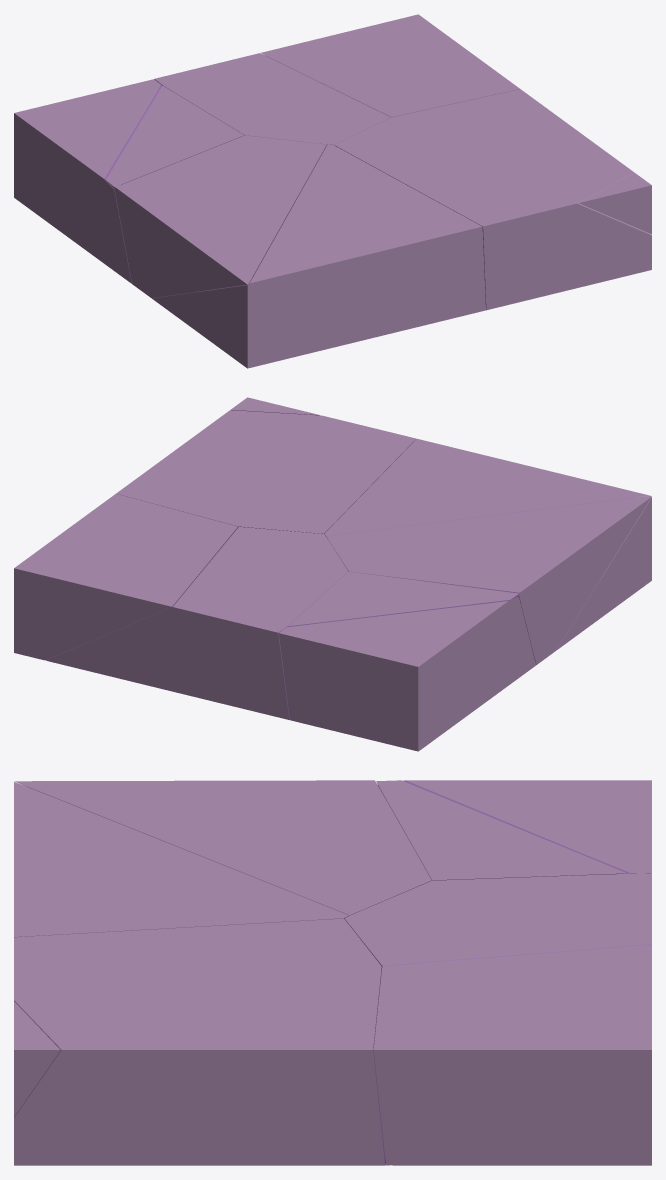
The model's file is BreakBlock_01_crack1.fbx.
3 renders of one model, top to bottom at view 1: azimuth 30°, elevation 25°; view 2: azimuth 150°, elevation 25°; view 3: azimuth 270°, elevation 25°, orthographic. The views are drawn at different scales.
Visible parts, largest first — view 1: Cube_cell.006, Cube_cell.003, Cube_cell.007, Cube_cell.005, Cube_cell, Cube_cell.001, Cube_cell.004, Cube_cell.002; view 2: Cube_cell.005, Cube_cell.001, Cube_cell.003, Cube_cell.007, Cube_cell, Cube_cell.006, Cube_cell.004, Cube_cell.002; view 3: Cube_cell.003, Cube_cell, Cube_cell.007, Cube_cell.006, Cube_cell.001, Cube_cell.005, Cube_cell.004, Cube_cell.002.
Part boxes in pixels (<box>): Cube_cell.006: <box>152,144,485,368</box>; Cube_cell.003: <box>334,89,651,310</box>; Cube_cell.007: <box>114,135,326,298</box>; Cube_cell.005: <box>14,79,161,283</box>; Cube_cell: <box>261,14,519,117</box>; Cube_cell.001: <box>154,53,391,144</box>; Cube_cell.004: <box>106,85,244,188</box>; Cube_cell.002: <box>579,173,651,234</box>; Cube_cell.005: <box>278,596,535,751</box>; Cube_cell.001: <box>46,527,348,719</box>; Cube_cell.003: <box>116,410,415,533</box>; Cube_cell.007: <box>327,495,651,664</box>; Cube_cell: <box>14,494,237,660</box>; Cube_cell.006: <box>324,438,651,650</box>; Cube_cell.004: <box>288,571,519,626</box>; Cube_cell.002: <box>230,397,320,415</box>; Cube_cell.003: <box>14,918,384,1165</box>; Cube_cell: <box>373,944,651,1165</box>; Cube_cell.007: <box>15,780,431,915</box>; Cube_cell.006: <box>14,782,349,937</box>; Cube_cell.001: <box>344,873,651,1165</box>; Cube_cell.005: <box>378,780,651,873</box>; Cube_cell.004: <box>376,780,626,880</box>; Cube_cell.002: <box>14,1001,60,1116</box>.
Size of the model in its own units: 200 by 40 by 200.
